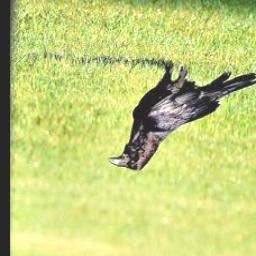Crow: (104, 59, 256, 174)
